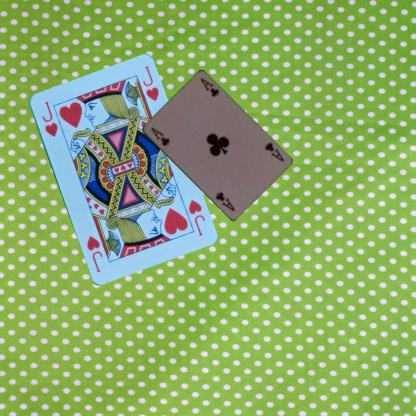Ac: (148, 124, 171, 148), (262, 140, 285, 163)
Jh: (186, 196, 206, 237), (39, 98, 59, 138)
